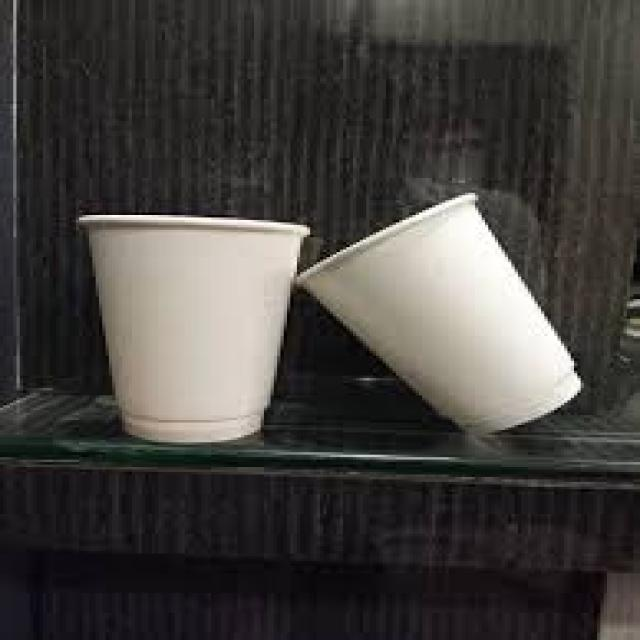PaperCardboard: (294, 194, 584, 438), (86, 213, 301, 439)
